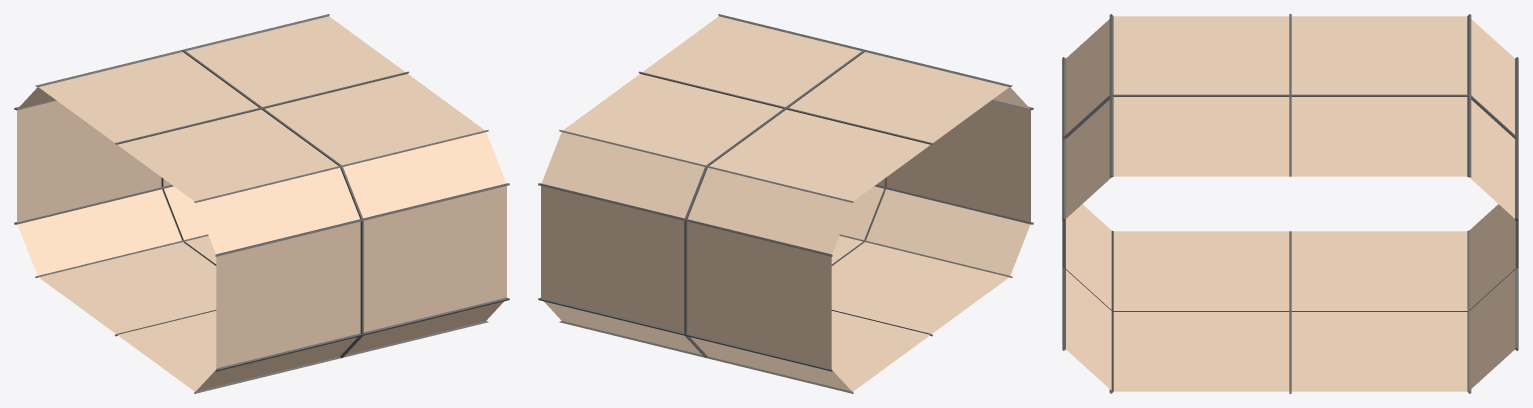
The model's file is showerRoom.fbx.
3 renders of one model, left to right at view 1: azimuth 30°, elevation 25°; view 2: azimuth 150°, elevation 25°; view 3: azimuth 270°, elevation 25°, orthographic. The views are drawn at different scales.
Parts seen in each view (by area): view 1: room; view 2: room; view 3: room.
Part boxes in pixels (x1=…): room: x1=14, y1=14, x2=509, y2=393; room: x1=538, y1=14, x2=1033, y2=393; room: x1=1062, y1=14, x2=1518, y2=393.
Size of the model in its own units: 324 by 202 by 385.
